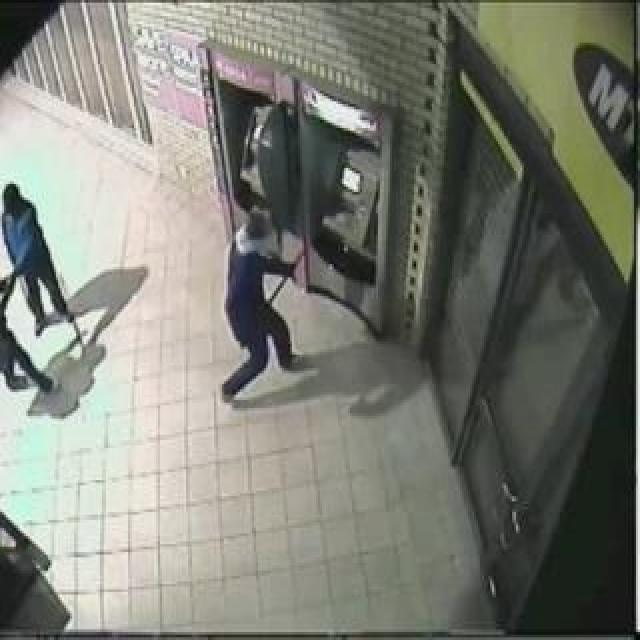thief: (226, 216, 280, 294), (4, 177, 44, 260)
